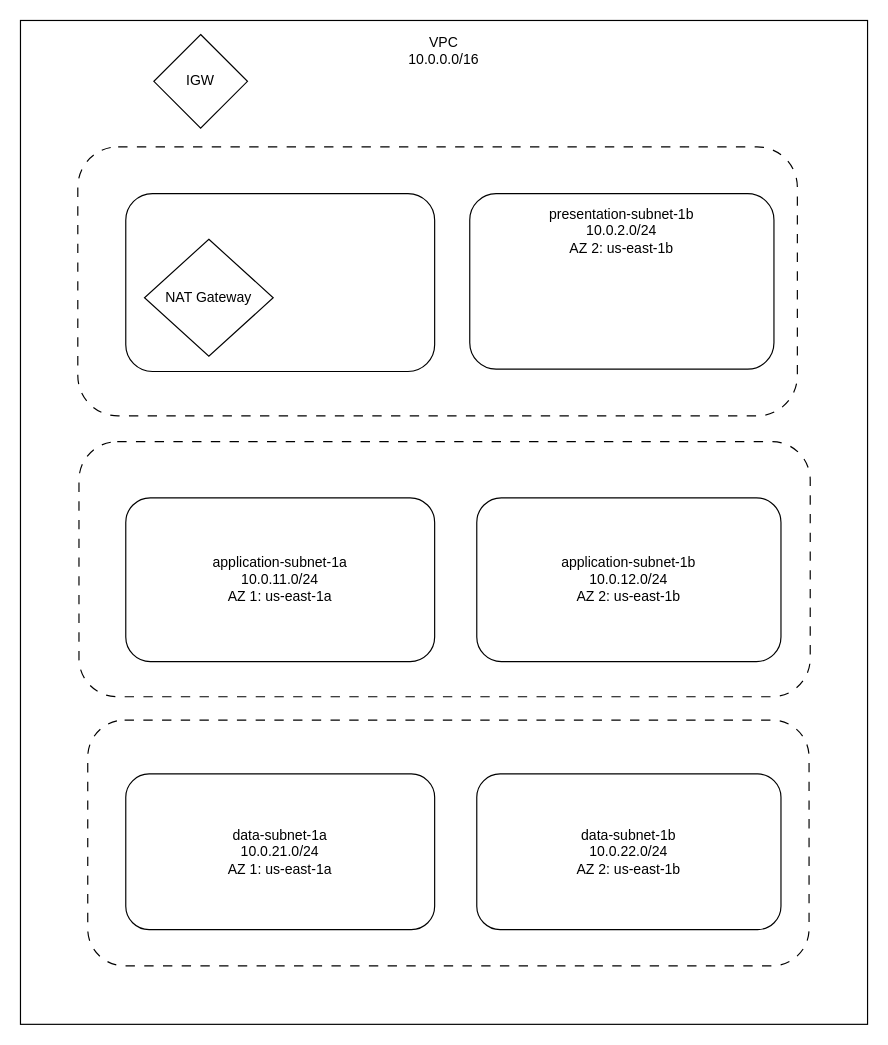
Image size: 888x1045. Some labels were removed from this diagram. The box of each missing label's shape, as (x1, y1, x2, y2) in pixels:
App Tier: (78, 441, 810, 697)
Database Tier: (87, 719, 809, 966)
Presentation Tier: (77, 146, 797, 416)
presentation-subnet-1a 10.0.1.0/24 AZ 1: us-east-1a: (125, 192, 435, 371)
